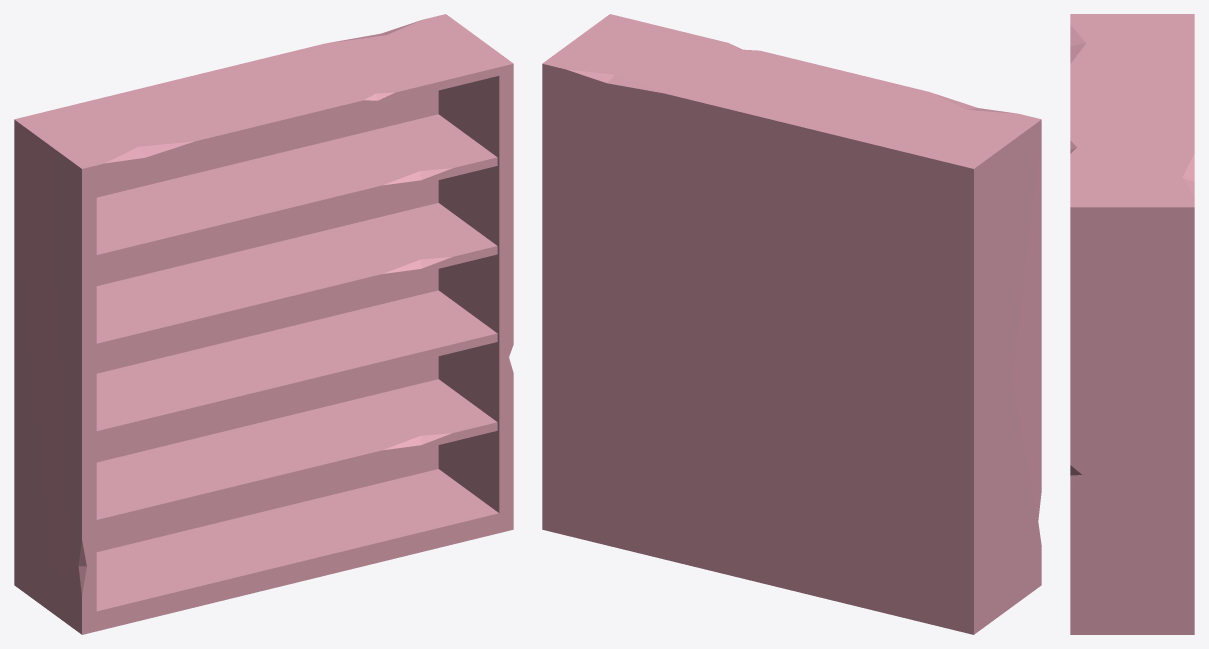
The model's file is Bookshelf.fbx.
The picture shows the model from 3 angles, left to right: view 1: azimuth 30°, elevation 25°; view 2: azimuth 150°, elevation 25°; view 3: azimuth 270°, elevation 25°; orthographic projection. The views are drawn at different scales.
Parts seen in each view (by area): view 1: Bookshelf; view 2: Bookshelf; view 3: Bookshelf.
Part boxes in pixels (box(x1,y1,x2,y2)): Bookshelf: box(14, 14, 513, 634); Bookshelf: box(542, 14, 1041, 634); Bookshelf: box(1070, 14, 1194, 634).
Bounding box in the file's own units: 140 × 145 × 38.24.
